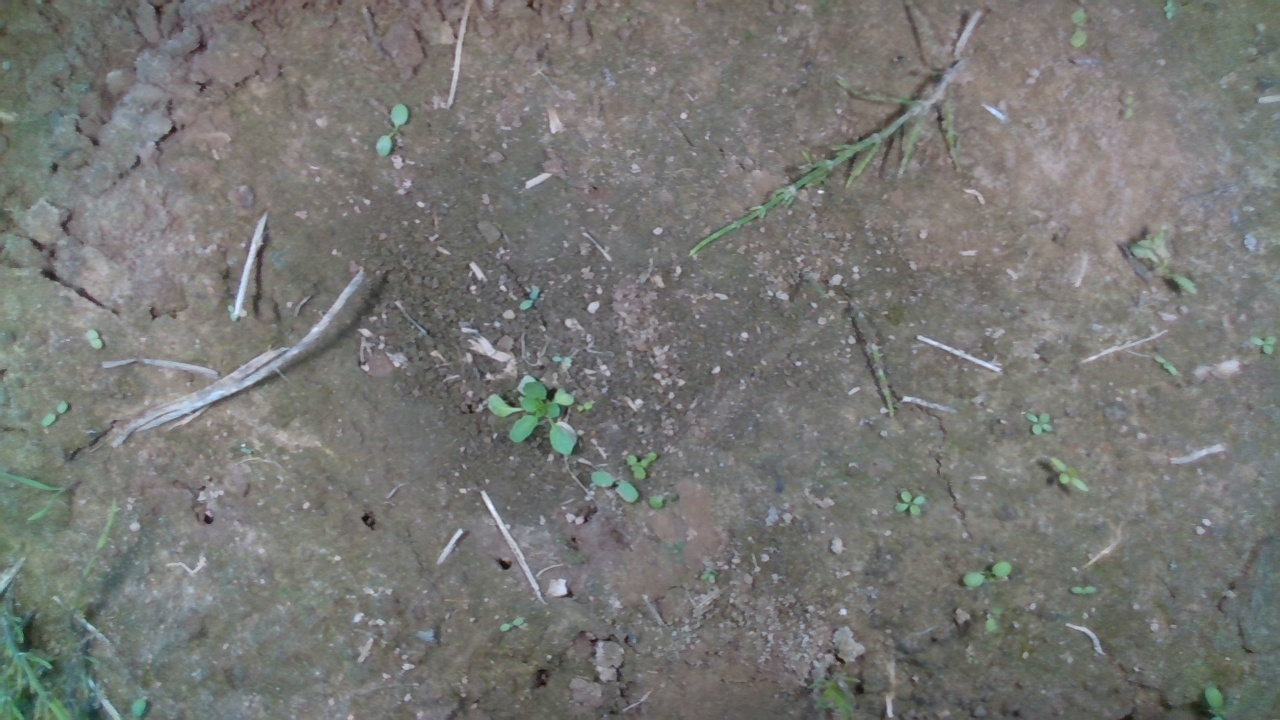weed: (372, 102, 408, 160), (1049, 455, 1091, 494), (962, 559, 1014, 588), (39, 397, 69, 429), (893, 489, 926, 518), (1023, 411, 1054, 436), (1151, 351, 1178, 378), (1065, 583, 1097, 597), (84, 328, 104, 350)
